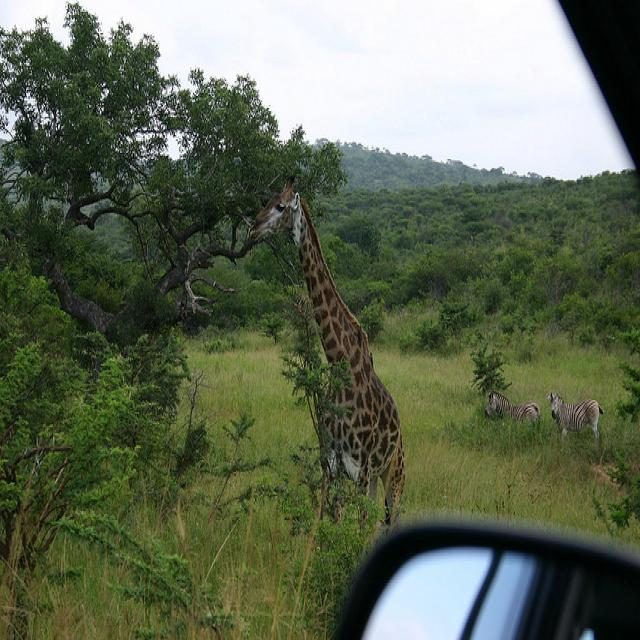Vehicle: (331, 517, 638, 639)
